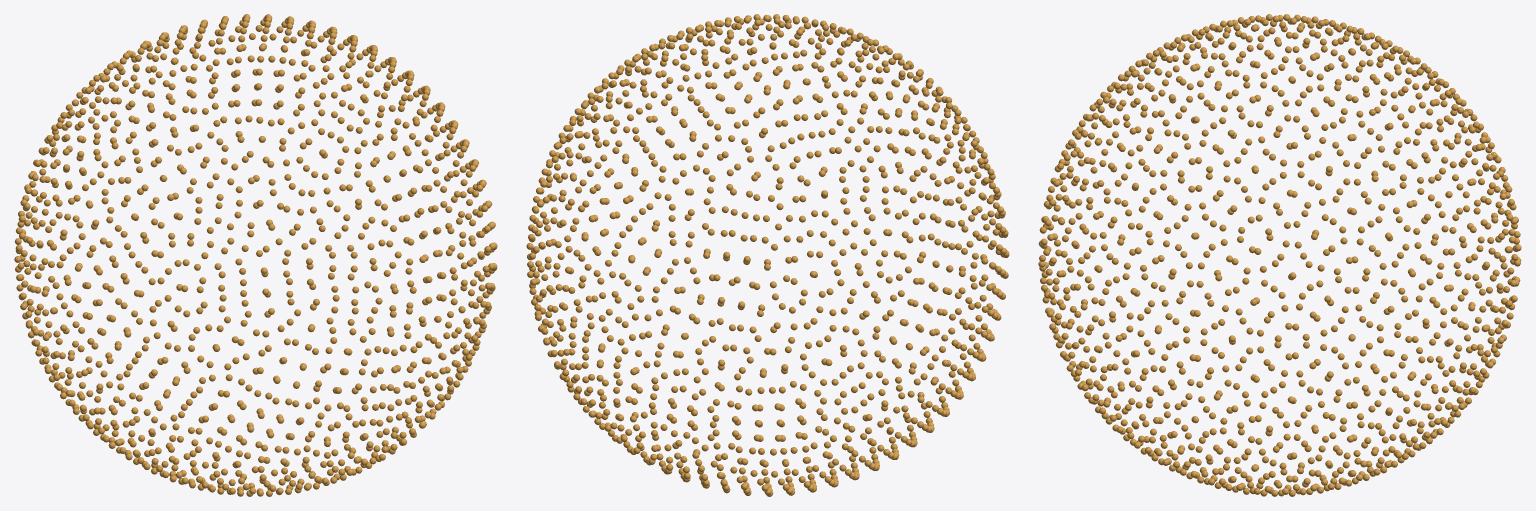
The model's file is indium_dotted_sphere_medium_smaller.glb.
The picture shows the model from 3 angles, left to right: view 1: azimuth 30°, elevation 25°; view 2: azimuth 150°, elevation 25°; view 3: azimuth 270°, elevation 25°; orthographic projection.
Visible parts, largest first — view 1: world; view 2: world; view 3: world.
Boxes of the visible parts, bbox=[...] form: world: bbox=[14, 14, 497, 496]; world: bbox=[526, 14, 1009, 496]; world: bbox=[1038, 14, 1521, 496].
Bounding box in the file's own units: 2.03 × 2.03 × 2.03.
